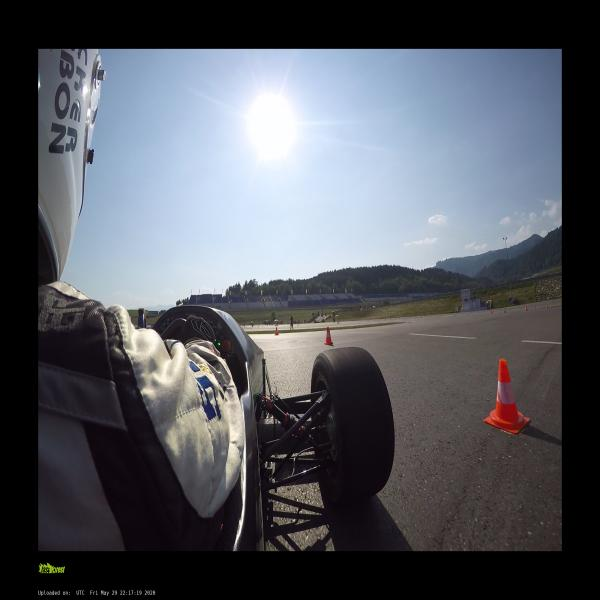orange_cone: (485, 358, 528, 435), (324, 327, 333, 345), (274, 327, 278, 335), (526, 305, 528, 311), (503, 308, 506, 312), (546, 304, 548, 309), (491, 310, 492, 314), (537, 306, 538, 309)
